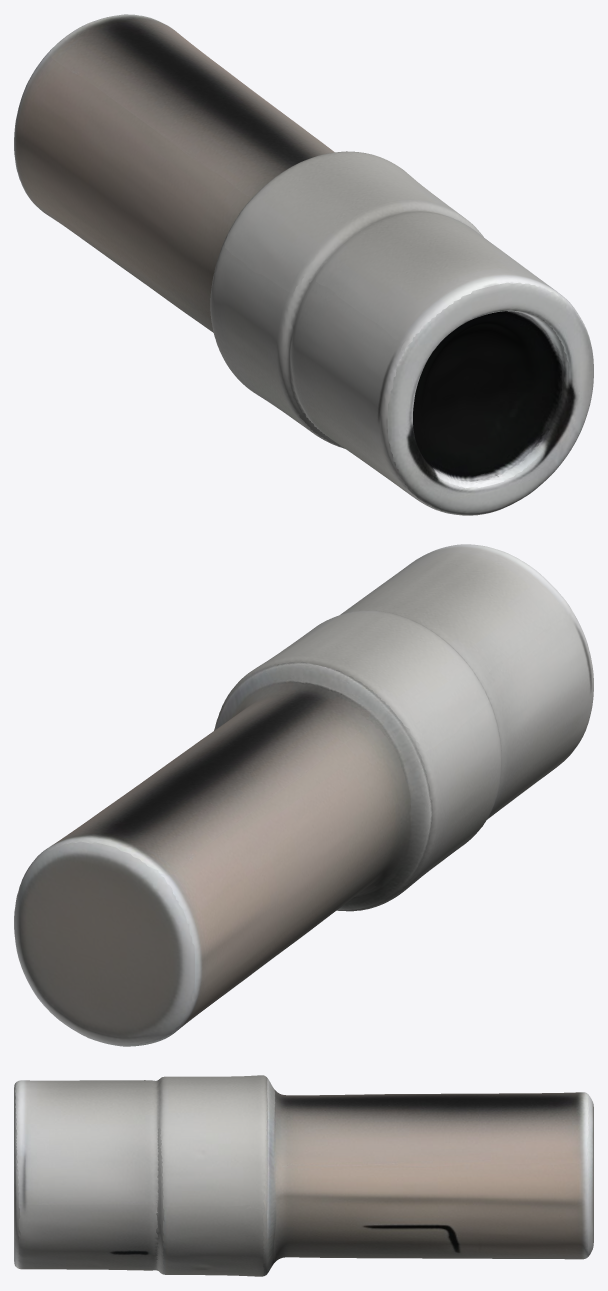
The model's file is headphone-jack.glb.
The picture shows the model from 3 angles, top to bottom: view 1: azimuth 30°, elevation 25°; view 2: azimuth 150°, elevation 25°; view 3: azimuth 270°, elevation 25°; orthographic projection. The views are drawn at different scales.
Visible parts, largest first — view 1: tmp57__u41u.ply; view 2: tmp57__u41u.ply; view 3: tmp57__u41u.ply.
Boxes of the visible parts, x1,y1,x2,y2 form: tmp57__u41u.ply: [14, 14, 593, 515]; tmp57__u41u.ply: [14, 544, 593, 1046]; tmp57__u41u.ply: [14, 1075, 593, 1276].
Size of the model in its own units: 0.3301 by 0.3453 by 0.9879.
Materials: 1 (1 with a texture image).
